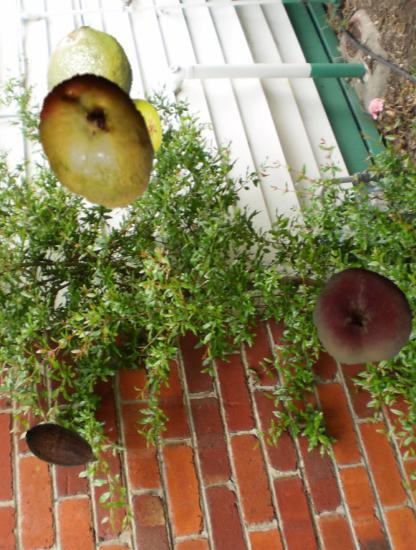Limes: (43, 26, 136, 119)
Nut: (24, 409, 101, 486)
Papaya: (24, 70, 169, 215)
Peach: (313, 264, 415, 366)
Pomelo: (100, 99, 166, 165)
